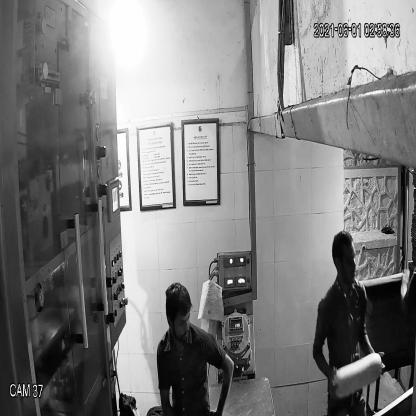no_goggles: (162, 309, 192, 332)
